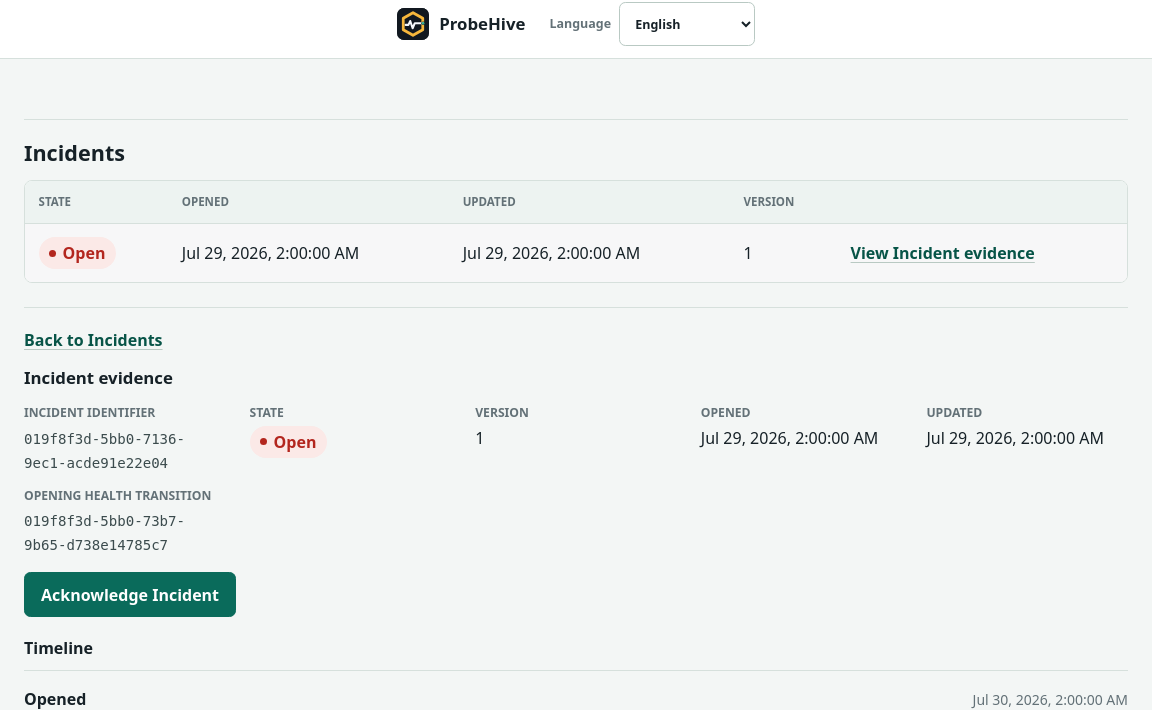
Scenario: acknowledges an open Incident and refreshes its state and timeline
Click the button "Acknowledge Incident" at (130, 595), box [24,572,236,617]
(page scrolled)
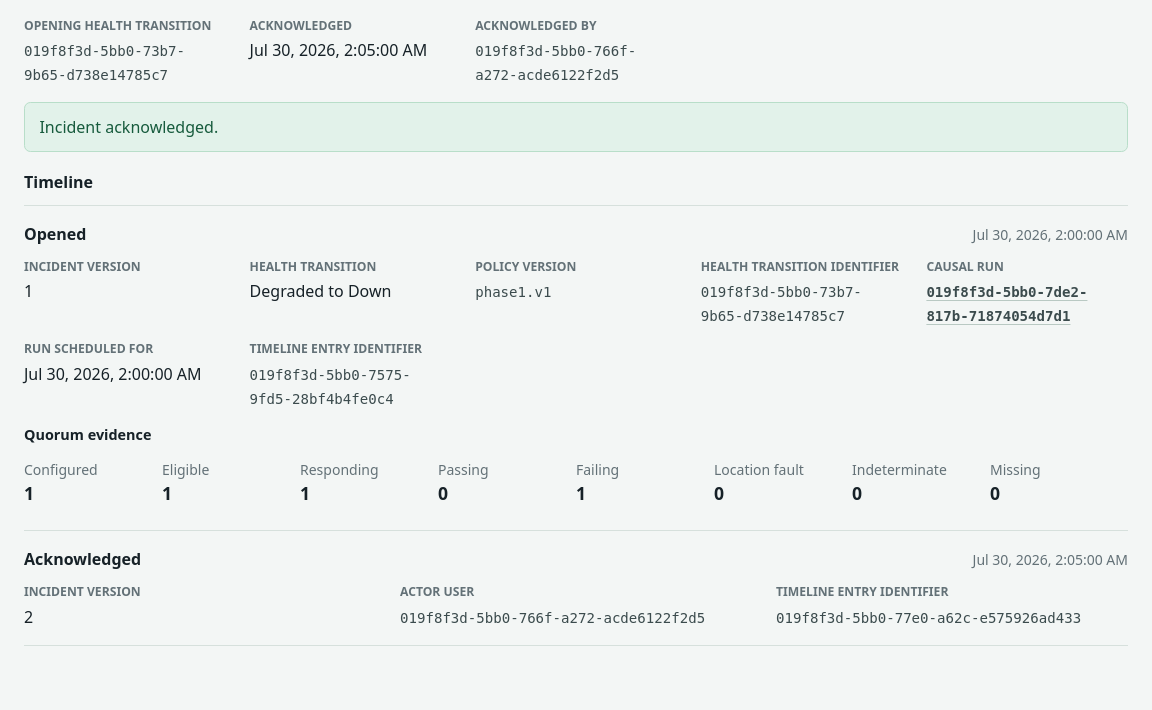
Expected: the text "Incident acknowledged." is shown, [24,102,1128,152]
Expected: the text "Acknowledged" below "Configured" is shown, [24,548,141,570]
Expected: the button "Acknowledge Incident" is gone
